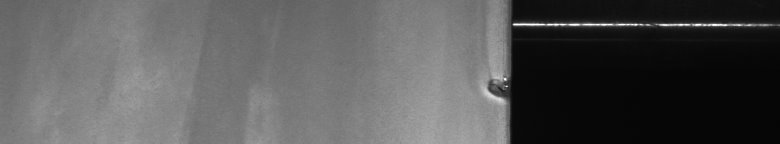hb: (476, 72, 500, 108)
